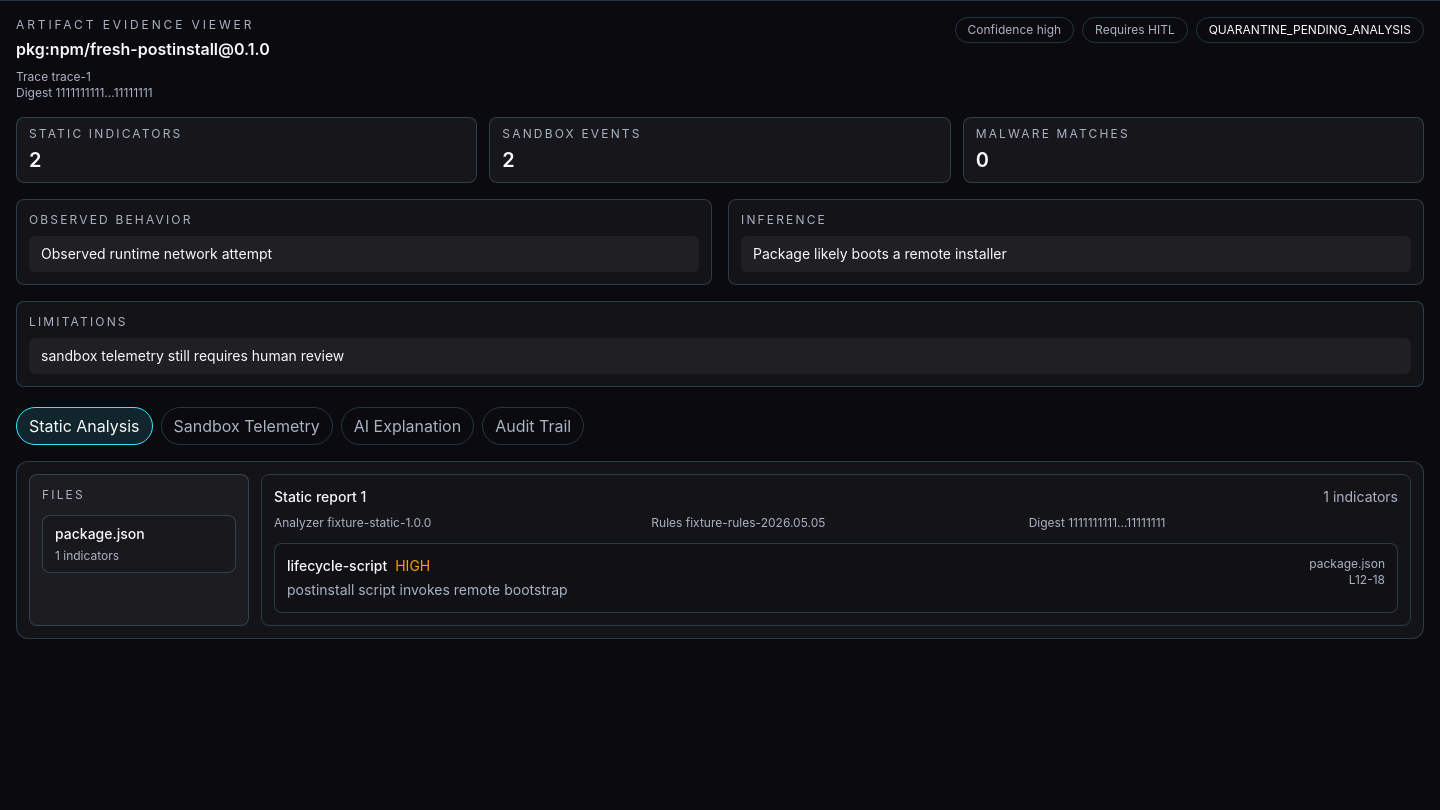
Scenario: ArtifactEvidenceViewer › renders structured static analysis and sandbox evidence from seeded payloads
The width and height of the screenshot is (1440, 810).
Expected: the text "Files" is shown, [42,487,85,502]
Expected: the text "package.json" below "Files" is shown, [55,525,145,542]
Click the button "Sandbox Telemetry". click: (247, 426)
box: [160,407,333,445]
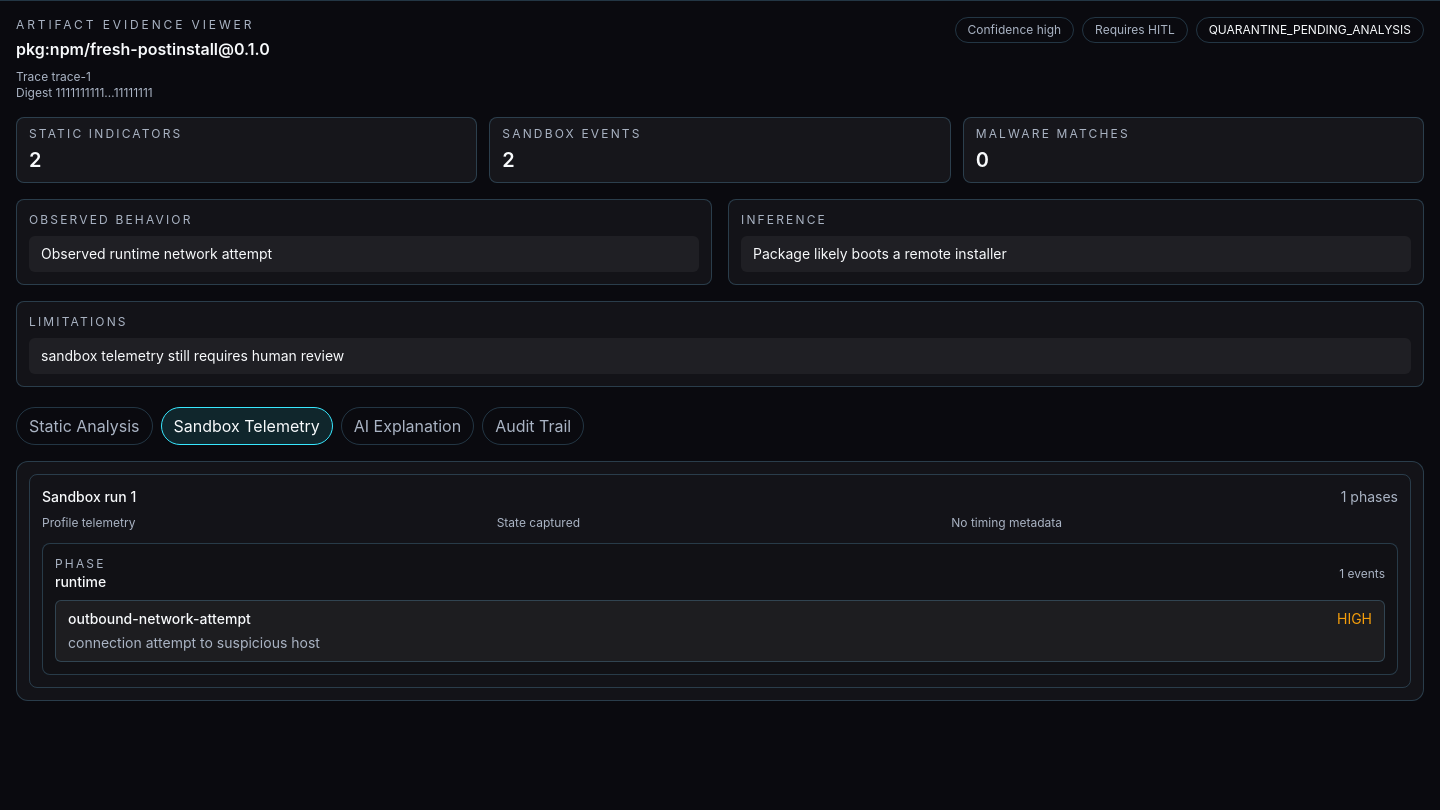
Result: the text "Phase" is shown at [55,556,106,572]
Result: the text "runtime" is shown at [55,572,106,592]
Result: the text "connection attempt to suspicious host" is shown at [68,634,320,651]
